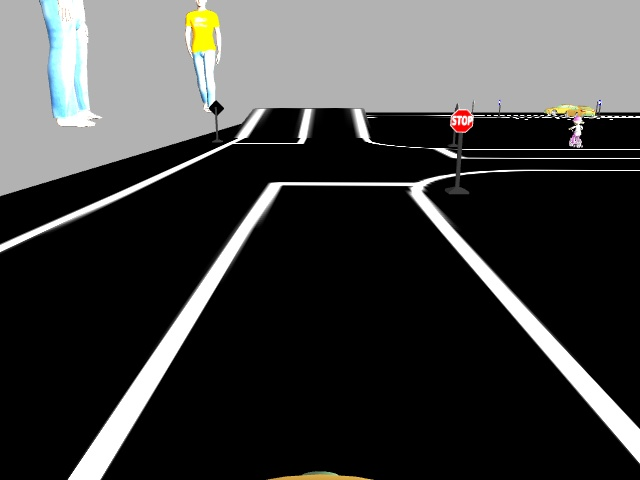Stop: (446, 109, 476, 130)
